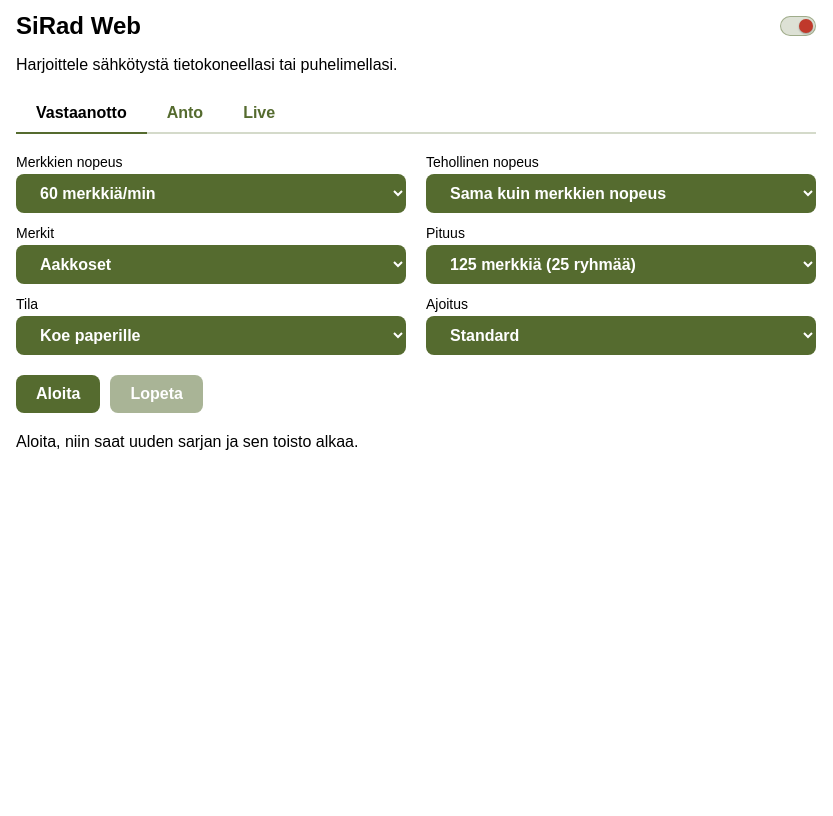
Scenario: App › shows the message when the playback is stopped
The image size is (833, 816).
What coordinates should you click on to do the following:
click the button "Aloita"
I would click on:
 (58, 394)
Its box is [16,375,100,413].
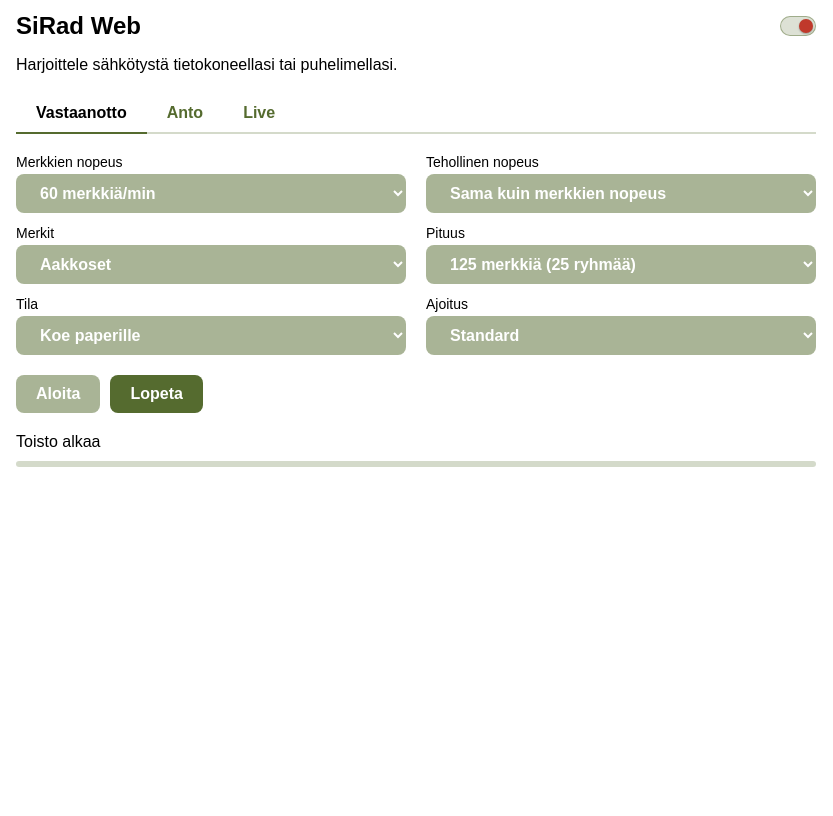
What coordinates should you click on to do the following:
click the button "Lopeta"
I would click on:
 (157, 394)
Its box is [110,375,203,413].
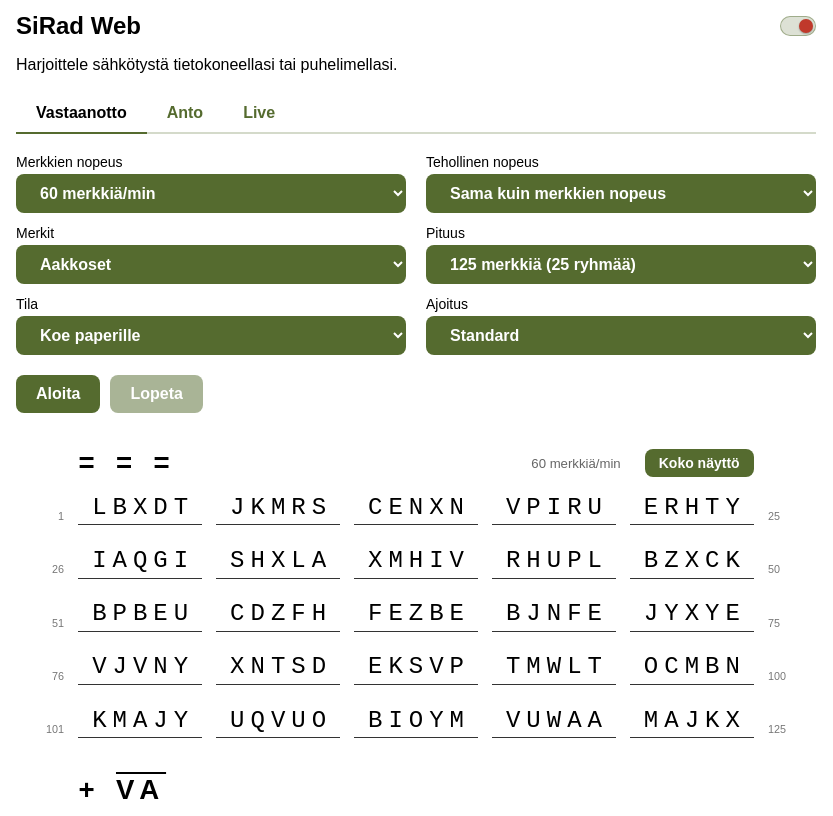
Expected: the progress indicator is gone
Expected: the number of elements with class "Results-row" is 5, [16,494,816,526]; [16,547,816,579]; [16,600,816,632]; [16,653,816,685]; [16,707,816,738]
Expected: the text with class "Results-caption" reads "60 merkkiä/min", [531,456,621,471]
